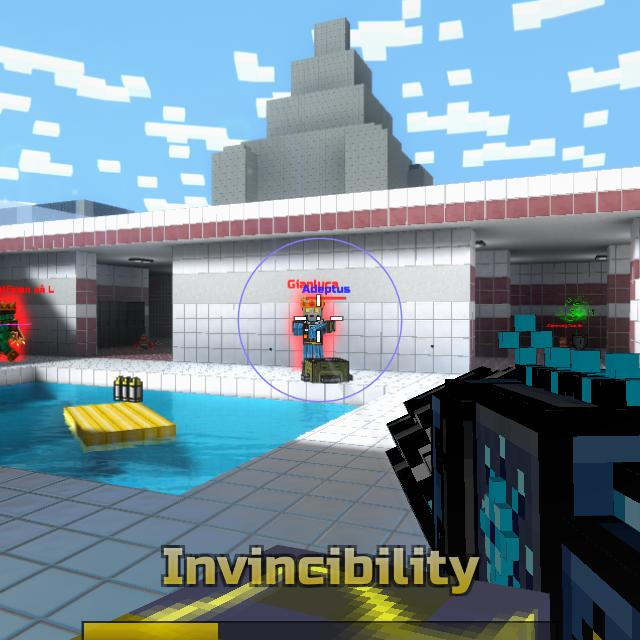Enemy: (292, 296, 336, 358), (0, 300, 20, 362)
